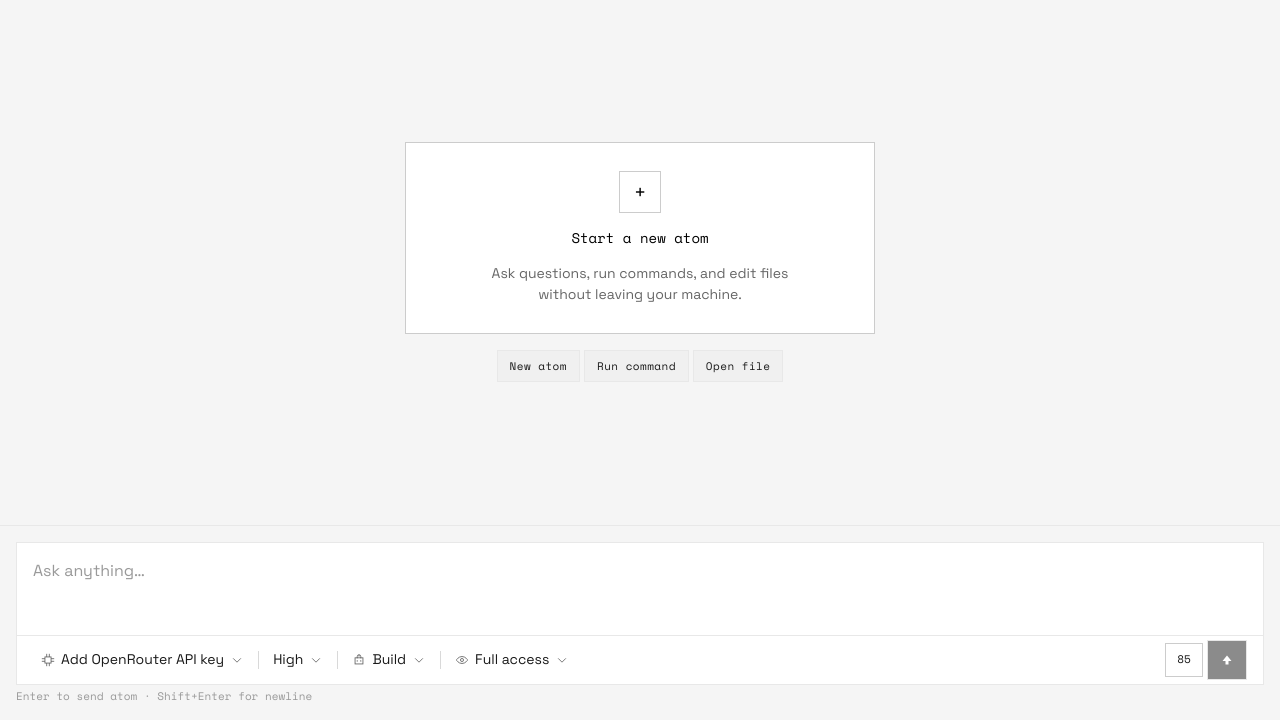
Test: MainWorkspacePanel › shows a coming soon snackbar for New atom
Click the button "New atom". click: x=538, y=366
box: [497,350,580,382]
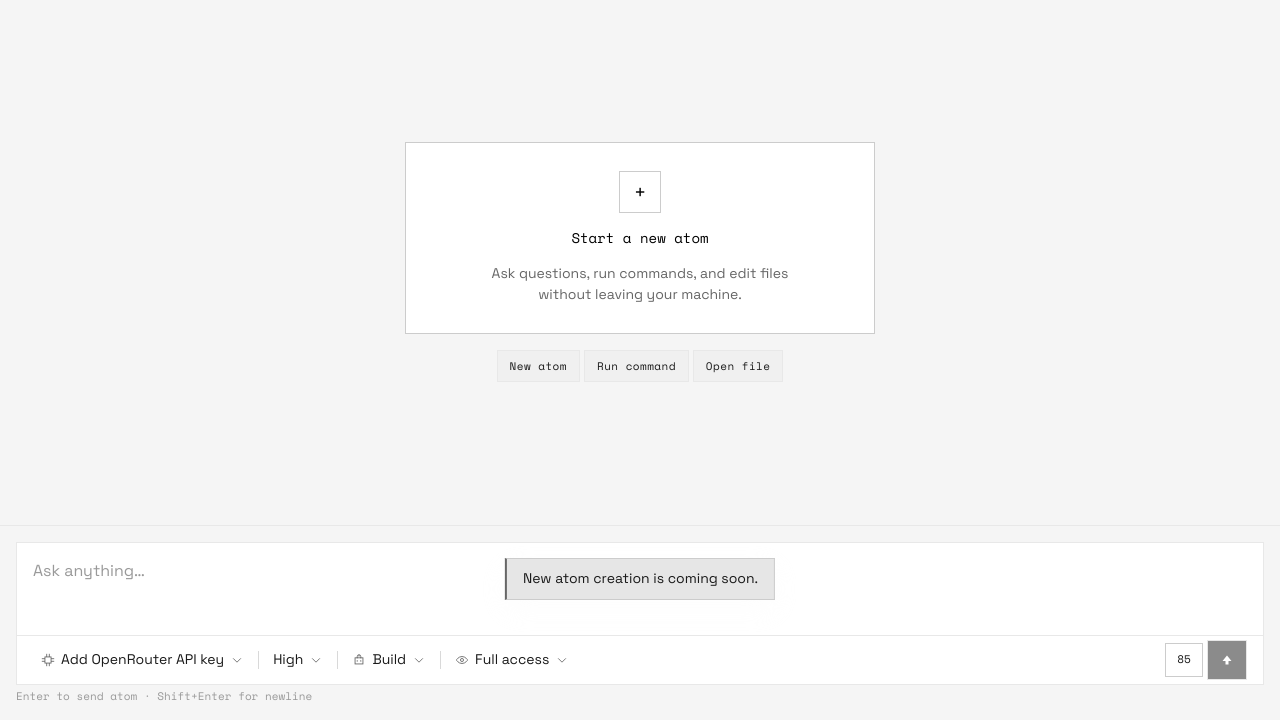
expect the text "New atom creation is coming soon." is shown: met, box [505,558,775,600]
